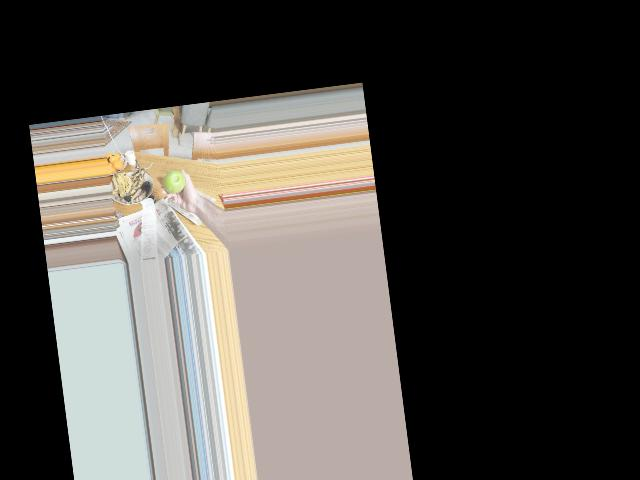apple: (162, 168, 188, 195)
